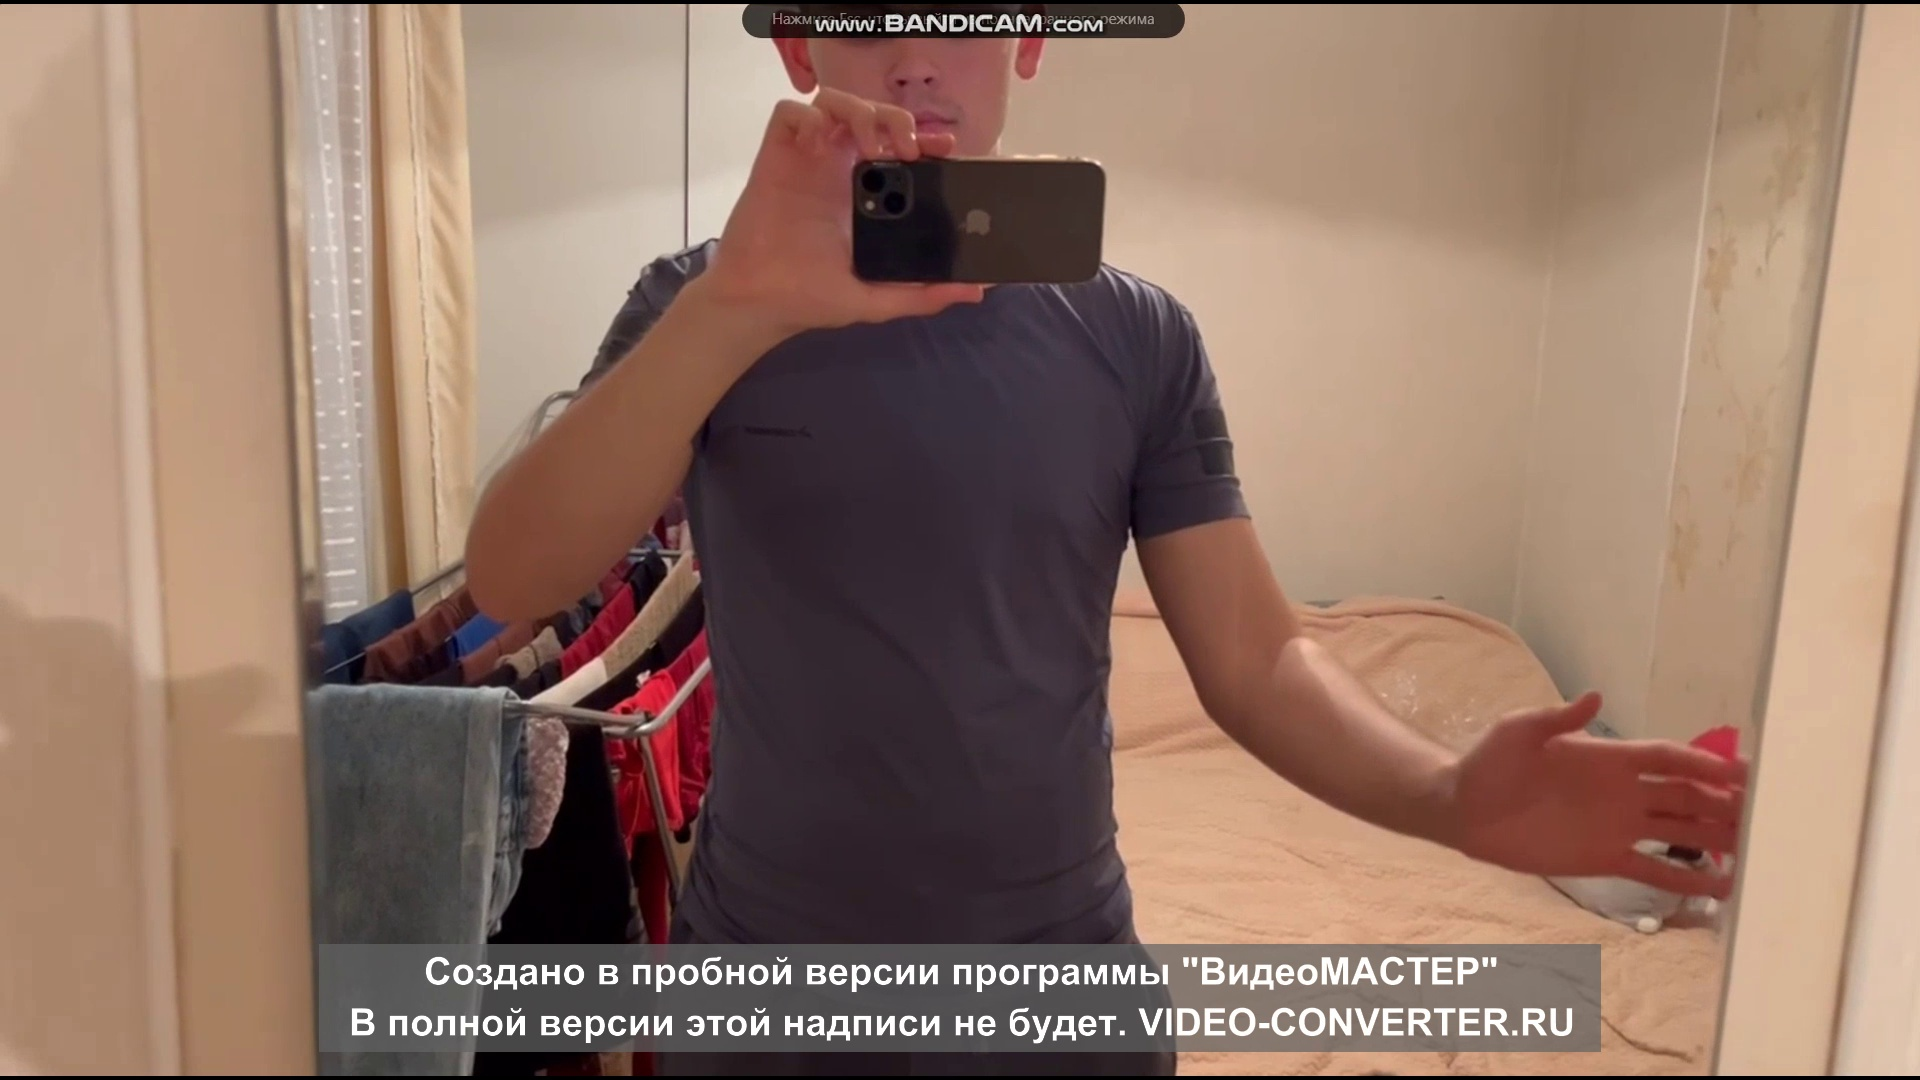Ладонь: (1461, 692, 1745, 898), (1602, 666, 1607, 688)
